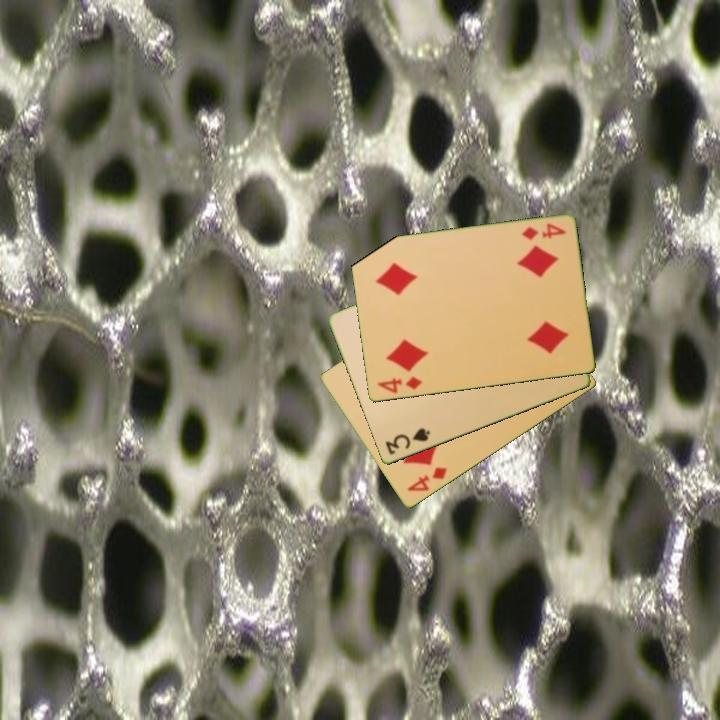3s: (381, 425, 433, 458)
4d: (404, 464, 450, 495), (374, 373, 425, 397), (518, 220, 568, 243)
